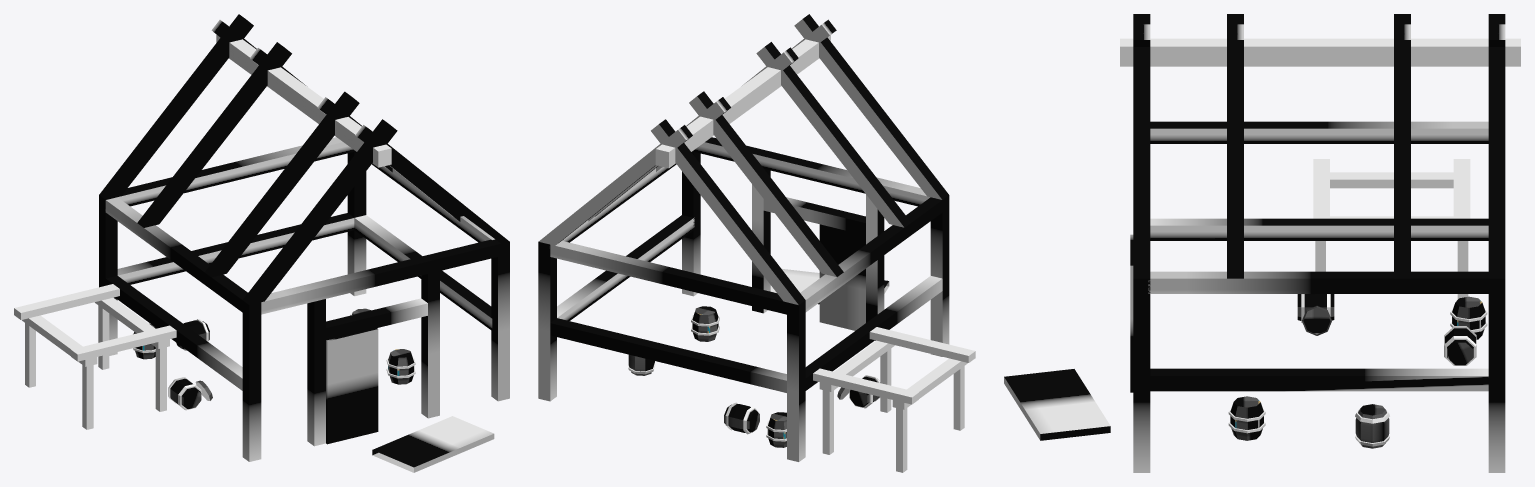
Rendered from WareHousePhase02.fbx.
The picture shows the model from 3 angles, left to right: view 1: azimuth 30°, elevation 25°; view 2: azimuth 150°, elevation 25°; view 3: azimuth 270°, elevation 25°; orthographic projection. The views are drawn at different scales.
Visible parts, largest first — view 1: WareHousePhase02; view 2: WareHousePhase02; view 3: WareHousePhase02.
Boxes of the visible parts, left/top/right/bottom form: WareHousePhase02: left=14, top=14, right=509, bottom=472; WareHousePhase02: left=538, top=14, right=975, bottom=472; WareHousePhase02: left=1004, top=14, right=1520, bottom=472.
Size of the model in its own units: 434 by 351 by 437.
